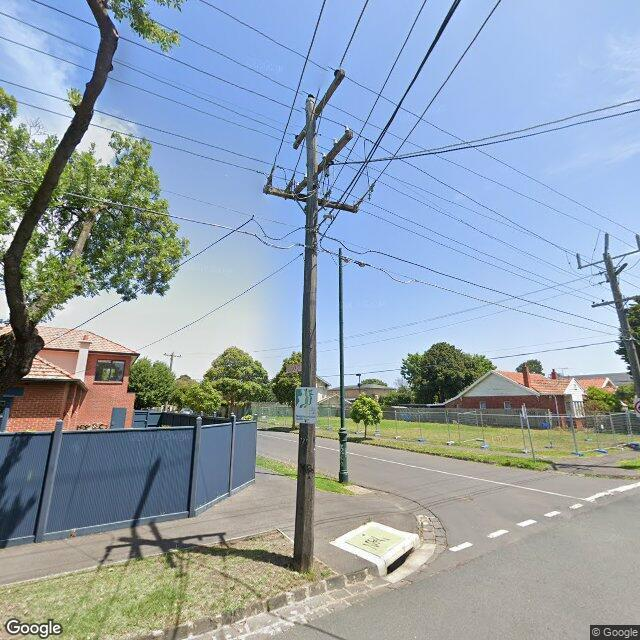HV-transmission: (295, 69, 340, 139), (576, 231, 640, 265)
crossarm: (293, 69, 345, 150), (294, 130, 354, 193), (264, 185, 358, 212), (578, 248, 640, 269), (591, 295, 640, 307), (606, 262, 628, 282), (164, 354, 181, 358)
steel-pole: (338, 247, 349, 484)
timber-pole: (293, 98, 319, 572), (603, 253, 640, 398), (170, 352, 173, 372)
